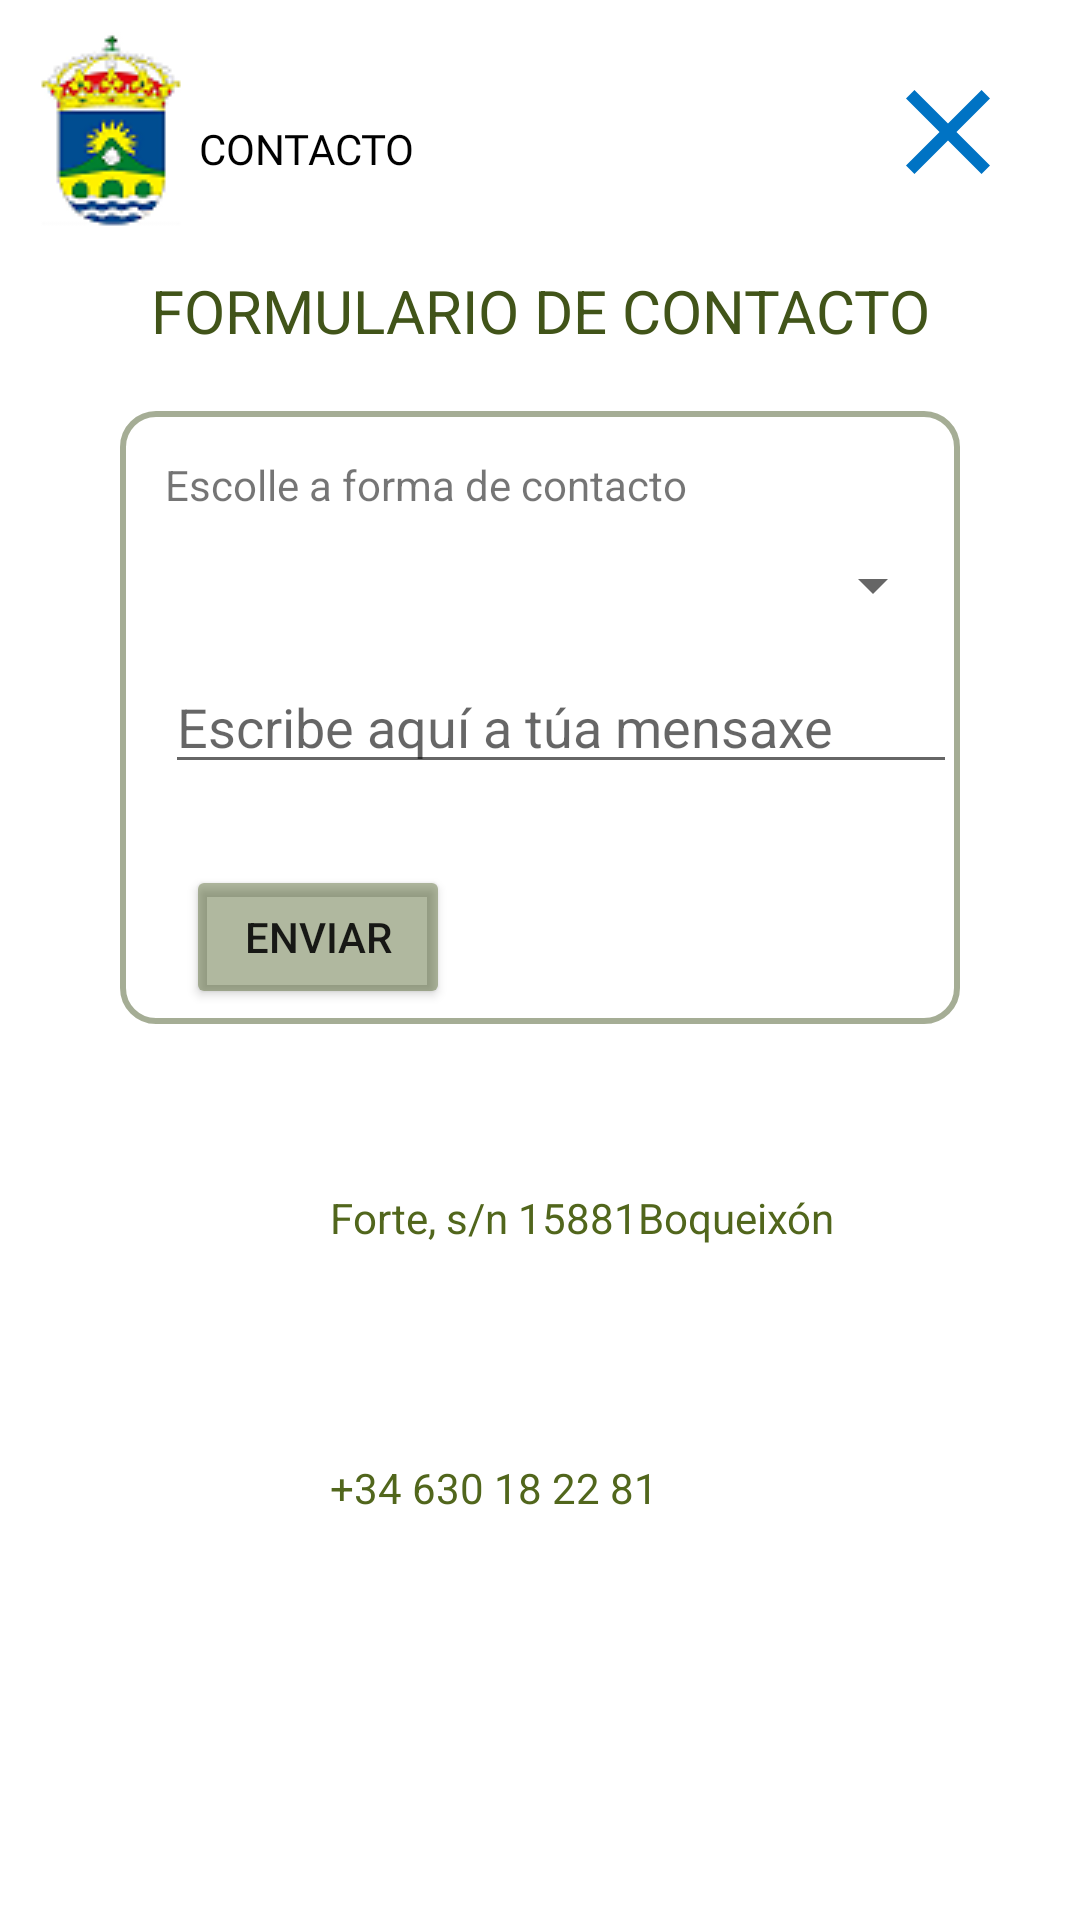

Locate icon controls on the screen. Image size 1080 × 1920, boxes as (x1, y1, x2, y2).
equis: (906, 90, 990, 174)
